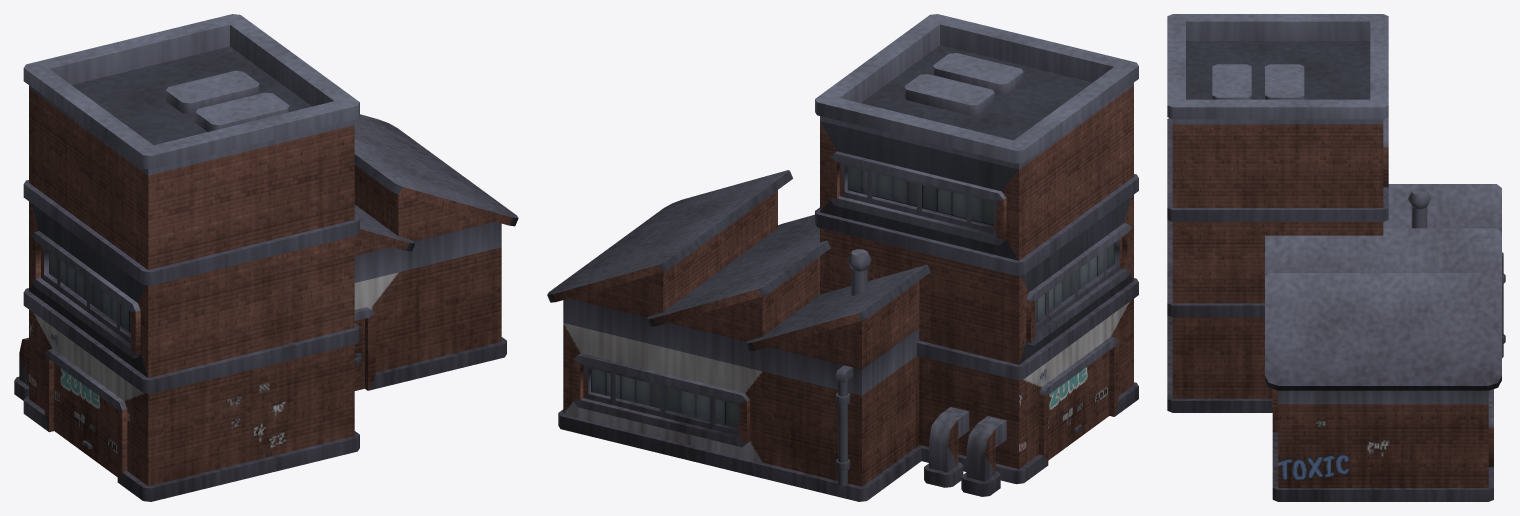
The model's file is building-g-brown-scuffed.glb.
3 views of the same model, side by side, from view 1: azimuth 30°, elevation 25°; view 2: azimuth 150°, elevation 25°; view 3: azimuth 270°, elevation 25° (orthographic). The views are drawn at different scales.
Visible parts, largest first — view 1: building-g; view 2: building-g; view 3: building-g.
Part boxes in pixels (x1,y1,x2,y2): building-g: (14,14,518,501); building-g: (547,14,1138,501); building-g: (1167,14,1505,501).
Bounding box in the file's own units: 1.68 × 1.28 × 1.28.
Materials: 1 (1 with a texture image).
